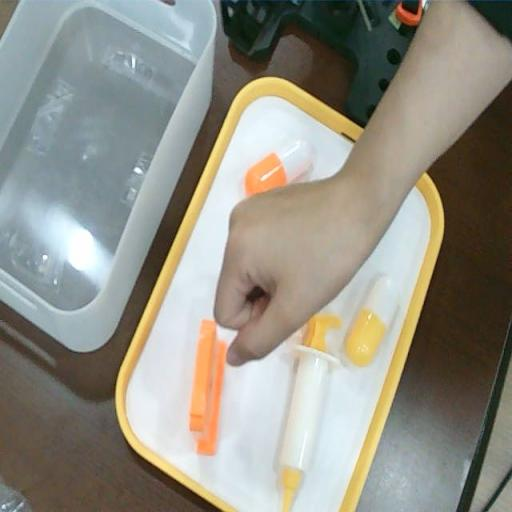hospital: (212, 176, 388, 368)
